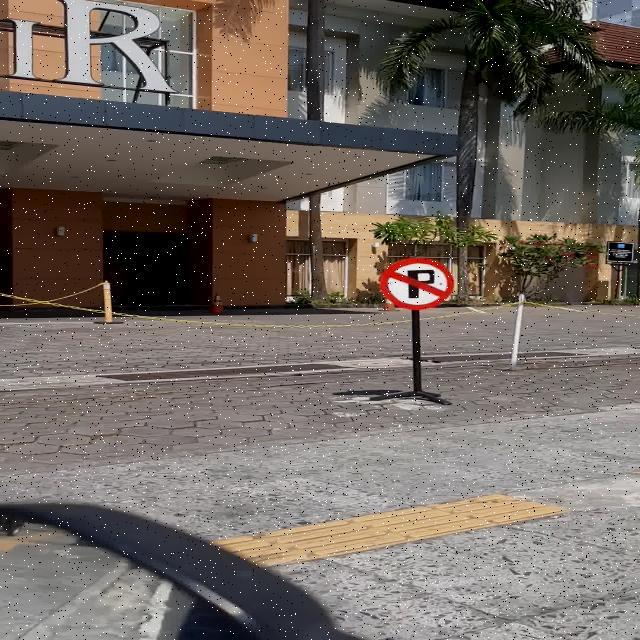Dilarang Parkir: (380, 256, 455, 310)
